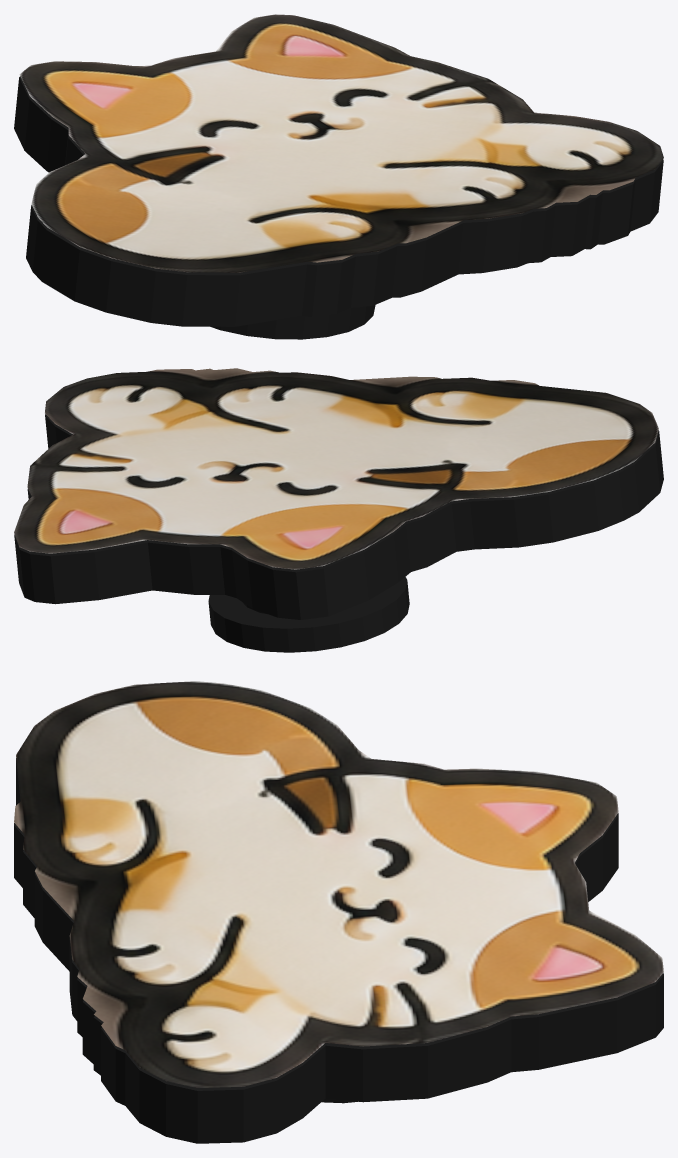
The model's file is animals-cat.glb.
3 views of the same model, one above another, from view 1: azimuth 30°, elevation 25°; view 2: azimuth 150°, elevation 25°; view 3: azimuth 270°, elevation 25° (orthographic). The views are drawn at different scales.
Parts seen in each view (by area): view 1: ANIMALS_Cat_MODEL; view 2: ANIMALS_Cat_MODEL; view 3: ANIMALS_Cat_MODEL.
Boxes of the visible parts, box(x1,y1,x2,y2) form: ANIMALS_Cat_MODEL: box(14, 14, 663, 339); ANIMALS_Cat_MODEL: box(14, 368, 663, 652); ANIMALS_Cat_MODEL: box(14, 681, 663, 1143).
Size of the model in its own units: 0.3267 by 0.0996 by 0.2687.
3 materials, 1 textured.
